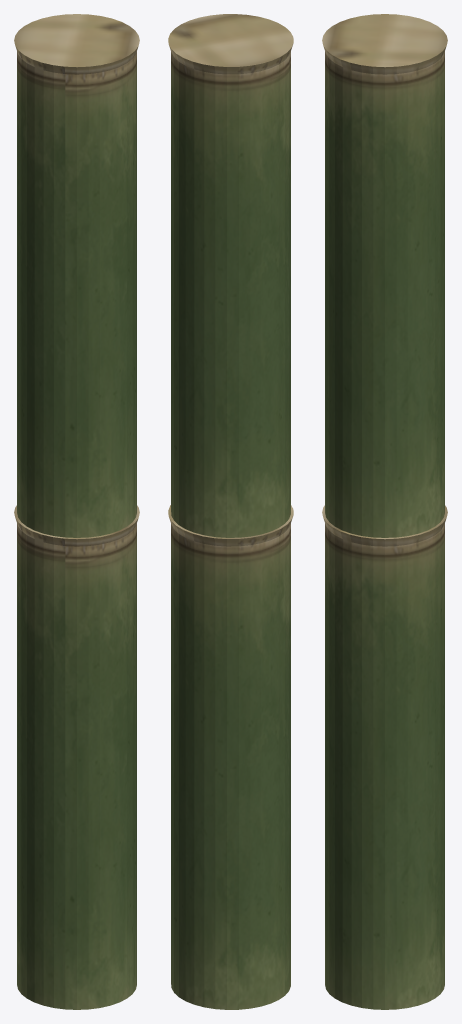
Rendered from bamboo2.fbx.
3 renders of one model, left to right at view 1: azimuth 90°, elevation 25°; view 2: azimuth 210°, elevation 25°; view 3: azimuth 270°, elevation 25°, orthographic.
Visible parts, largest first — view 1: Cylinder; view 2: Cylinder; view 3: Cylinder.
Boxes of the visible parts, x1,y1,x2,y2 form: Cylinder: [14, 14, 139, 1009]; Cylinder: [168, 14, 293, 1009]; Cylinder: [322, 14, 447, 1009].
Size of the model in its own units: 35.51 by 294 by 35.51.
